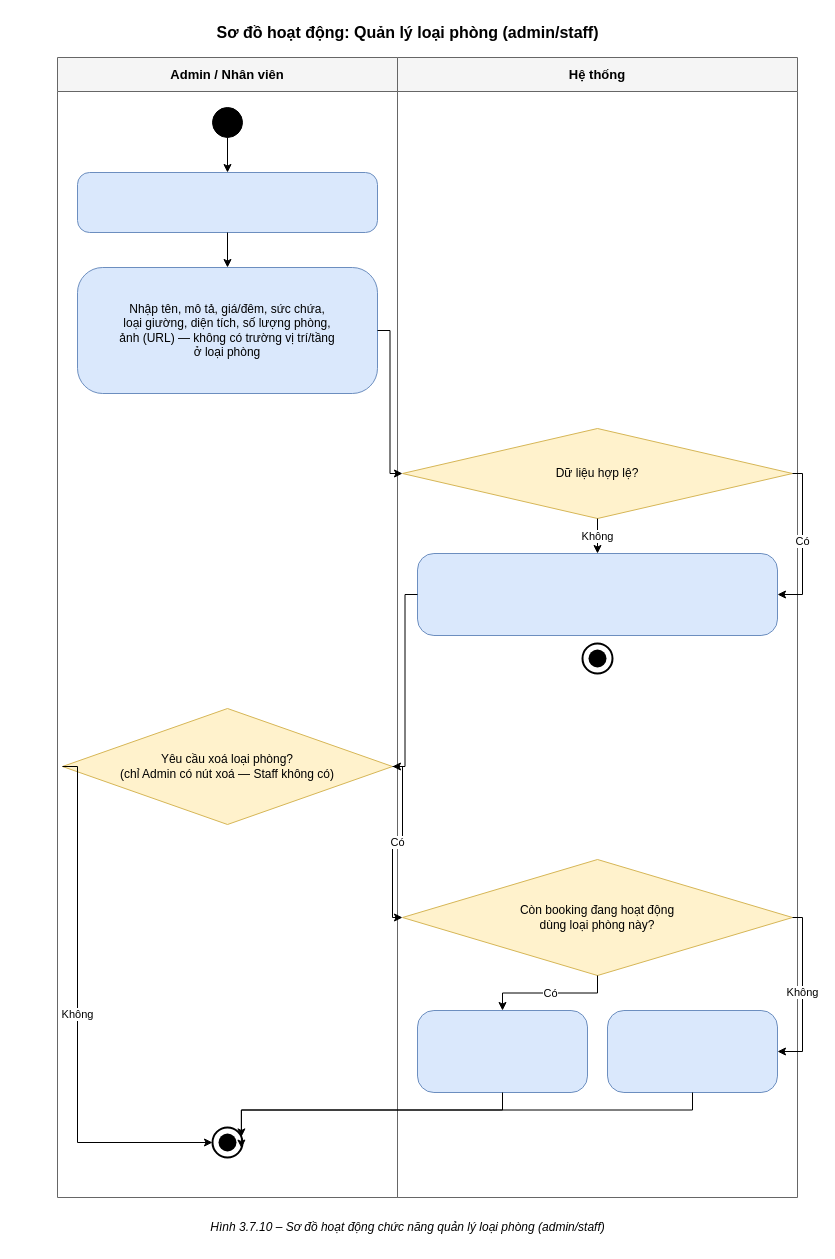
Some shapes in this 835 by 1259 pixel diagram are drawn without their labels. Each missing label, with the centre of its shape:
"Admin hoặc Staff chọn Thêm/Sửa loại phòng" goes at point (227, 202).
"Có: tự động chuyển status = hidden (không xoá cứng)" goes at point (502, 1051).
"Không: xoá mềm (SoftDeletes, ghi deleted_at)" goes at point (692, 1051).
"Lưu vào room_types + đồng bộ room_type_images" goes at point (597, 594).
